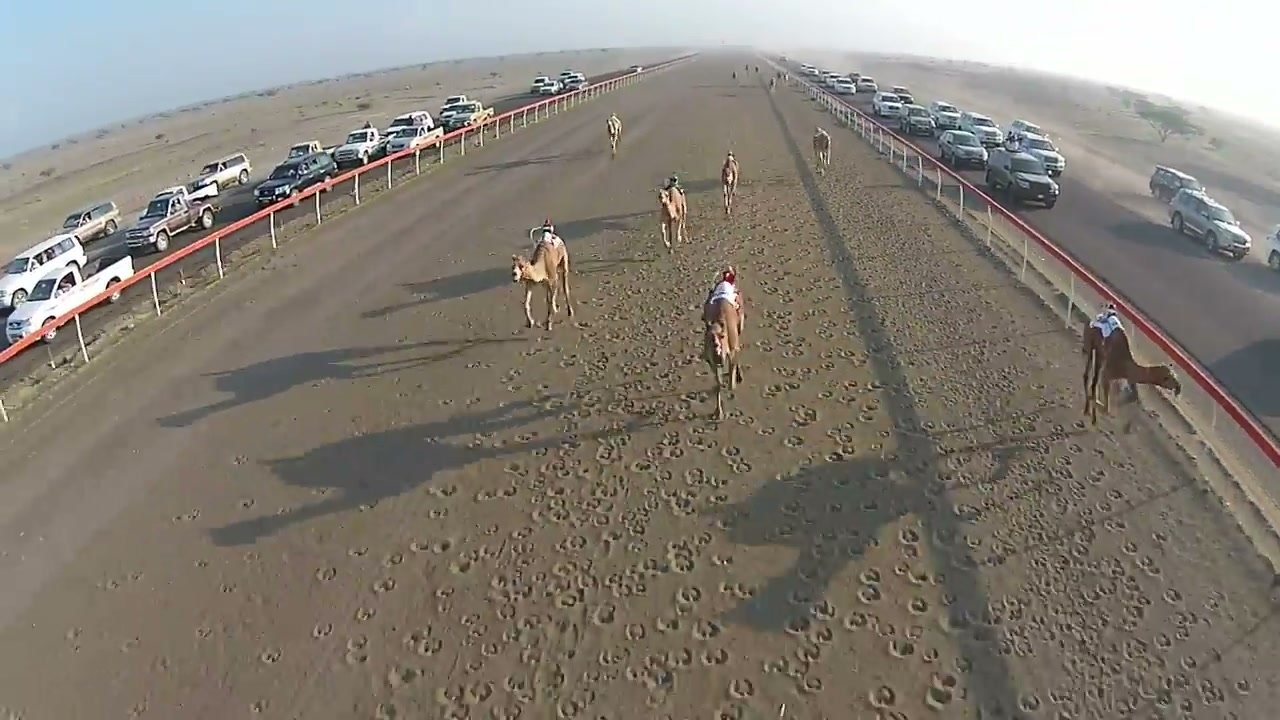animal_footprint: (0, 93, 1276, 719)
